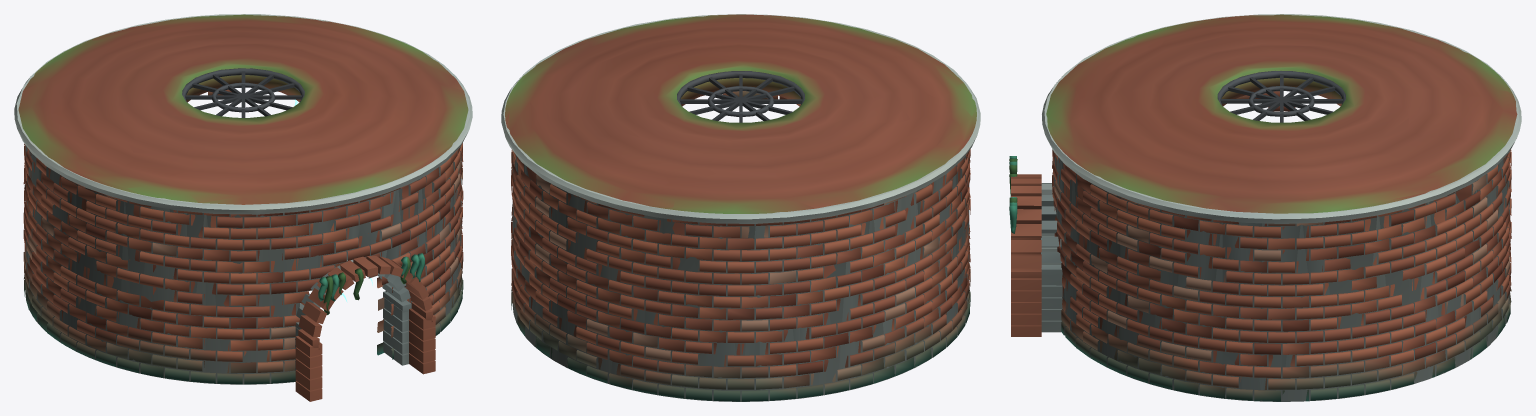
File: grotto_drain_dome_lod1.glb
3 renders of one model, left to right at view 1: azimuth 30°, elevation 25°; view 2: azimuth 150°, elevation 25°; view 3: azimuth 270°, elevation 25°, orthographic. The views are drawn at different scales.
Parts seen in each view (by area): view 1: grotto_drain_dome.001; view 2: grotto_drain_dome.001; view 3: grotto_drain_dome.001.
Boxes of the visible parts, bbox=[...] form: grotto_drain_dome.001: bbox=[14, 14, 472, 401]; grotto_drain_dome.001: bbox=[501, 14, 980, 401]; grotto_drain_dome.001: bbox=[1009, 14, 1521, 401].
Size of the model in its own units: 37.2 by 17.95 by 39.73.
